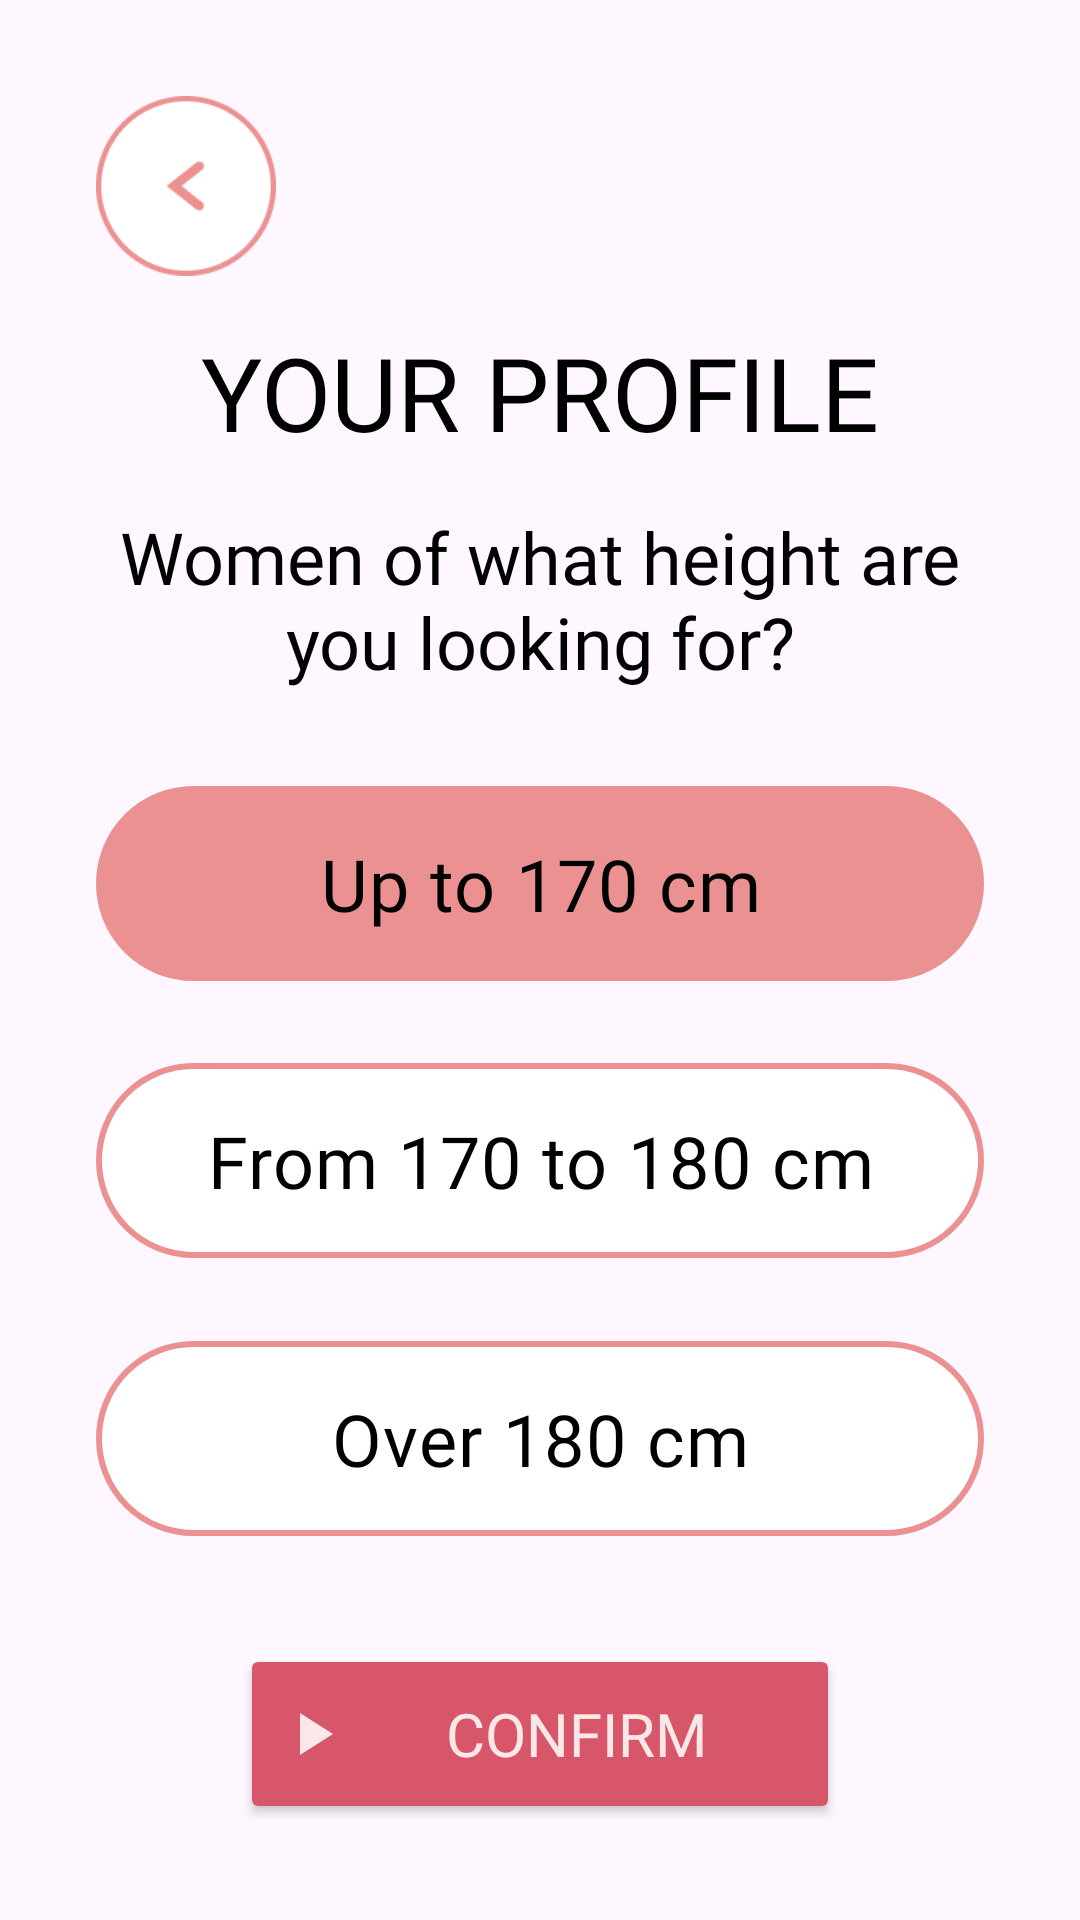

Named icons in this screenshot (1080w x 1920h) and their centers, [x,y]:
back: [186,186]
